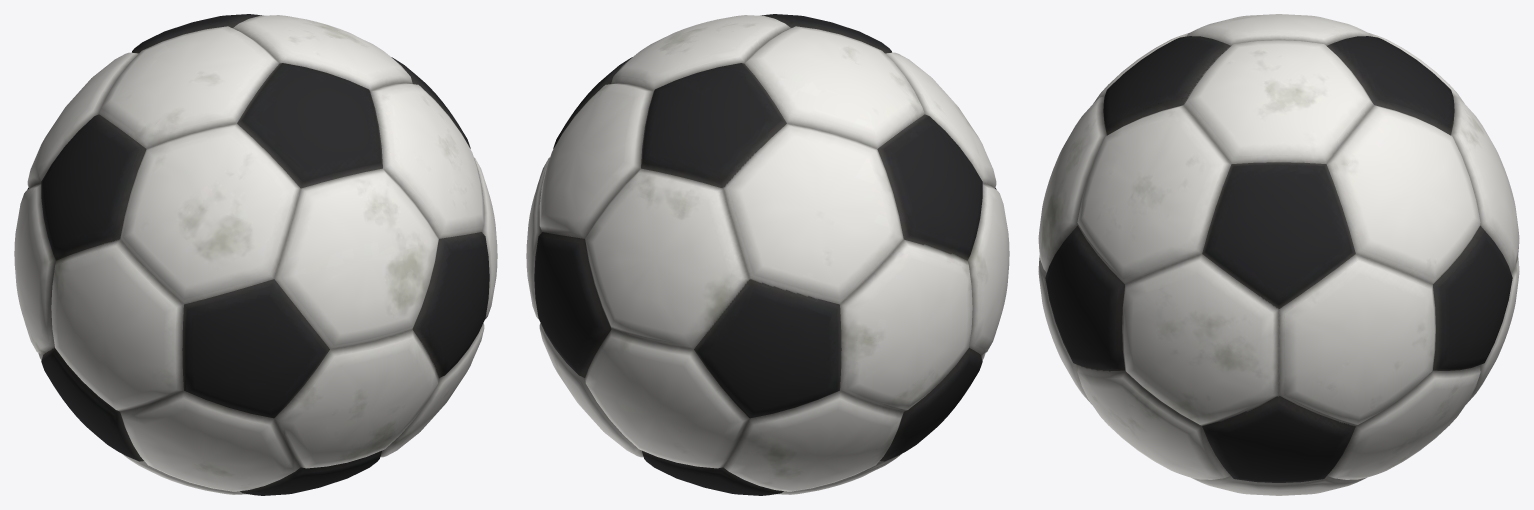
The model's file is football.glb.
3 views of the same model, side by side, from view 1: azimuth 30°, elevation 25°; view 2: azimuth 150°, elevation 25°; view 3: azimuth 270°, elevation 25° (orthographic).
Parts seen in each view (by area): view 1: football; view 2: football; view 3: football.
Part boxes in pixels (x1,y1,x2,y2): football: (14, 14, 497, 495); football: (526, 14, 1009, 495); football: (1038, 14, 1519, 495).
Bounding box in the file's own units: 0.2204 × 0.2204 × 0.2204.
1 material, 1 textured.
